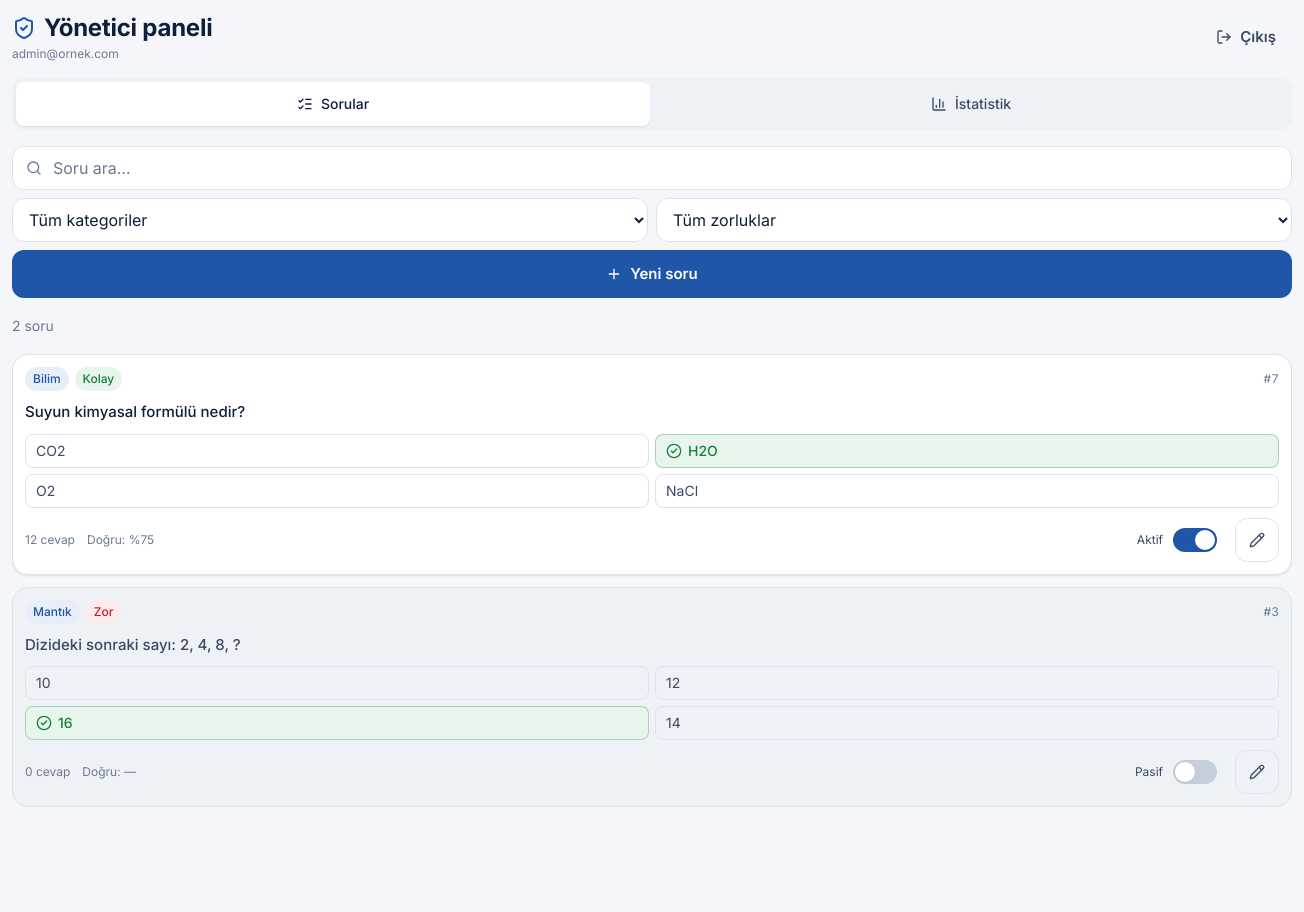
Test: AdminScreen istatistik › istatistik hatasını gösterir
Check: the text "Suyun kimyasal formülü nedir?" is shown, box [25,402,245,421]
What coordinates should you click on to do the following:
click the tab "İstatistik"
I would click on:
 (971, 104)
Its box is [654,82,1288,126].
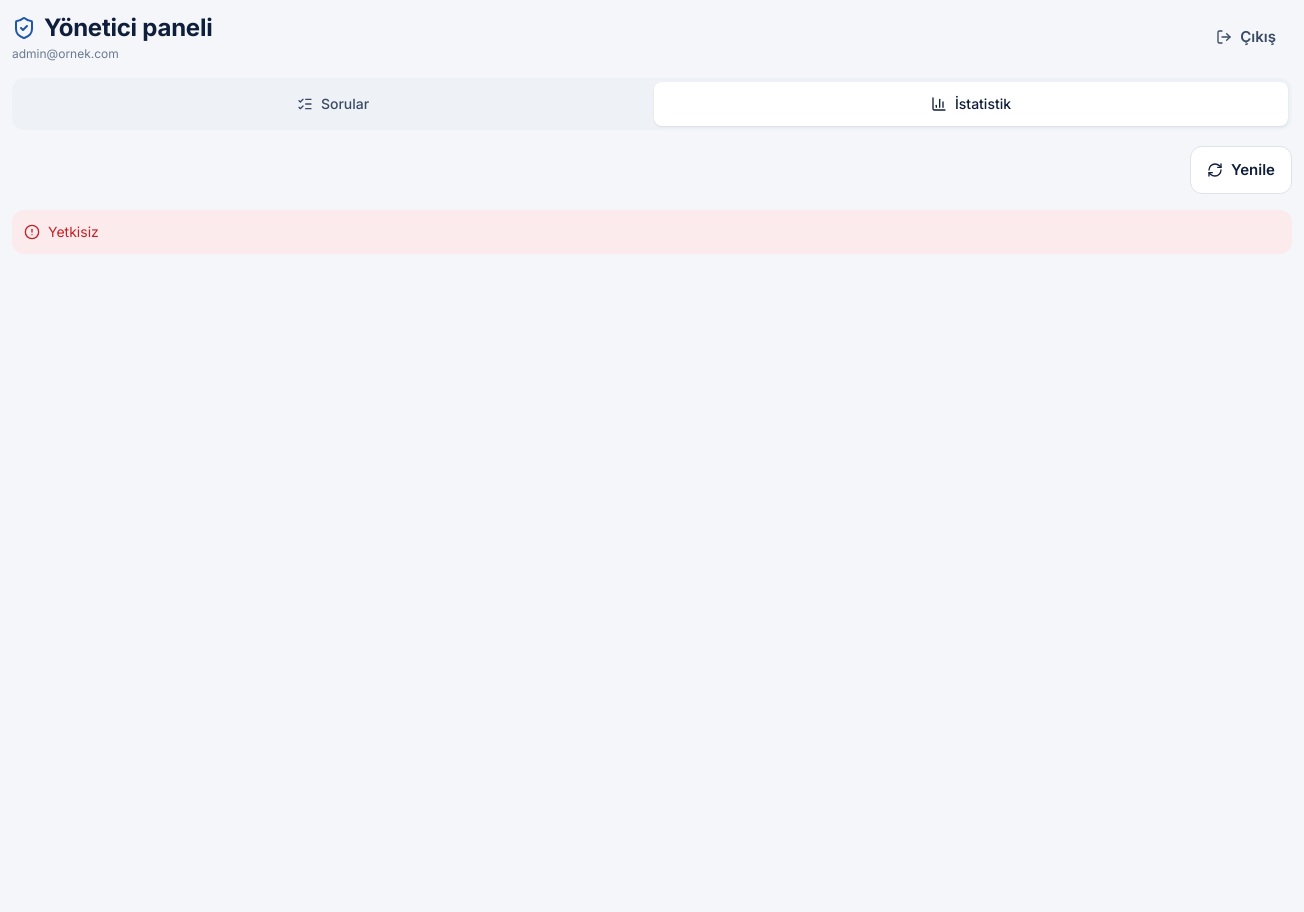
Check: the message reads "Yetkisiz", box [48,223,99,240]
